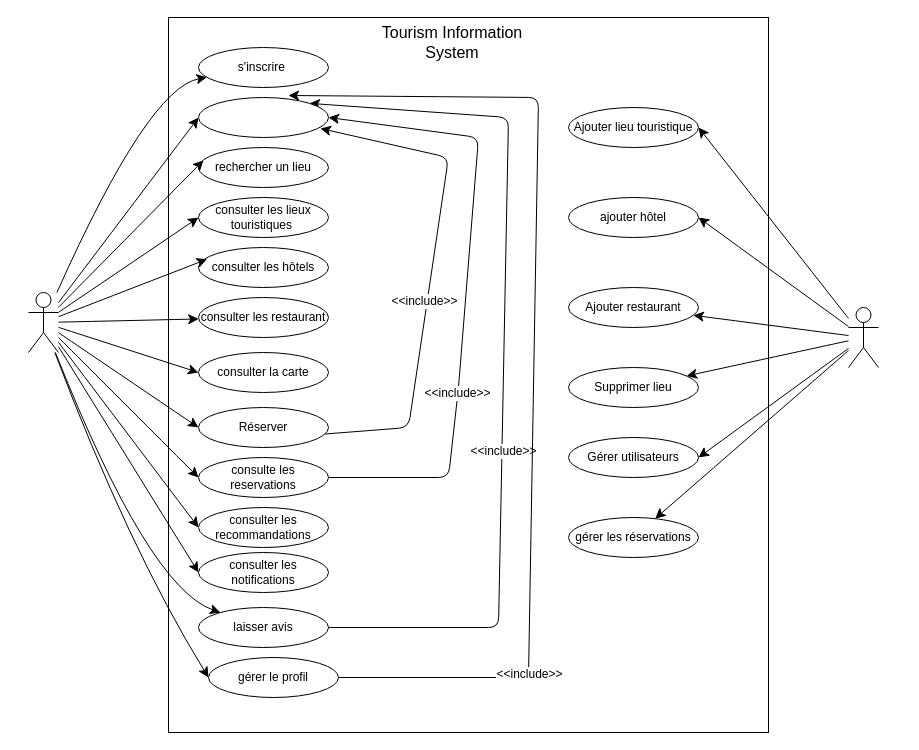
The diagram is 919 pixels wide and 750 high, and some of its shapes have lost their labels. Here are the shapes that lost their labels. From the top down, the box of each, then its label:
(198, 96, 328, 138): se connecter
(28, 292, 58, 352): Utilisateur
(848, 306, 878, 368): Administrâteur
